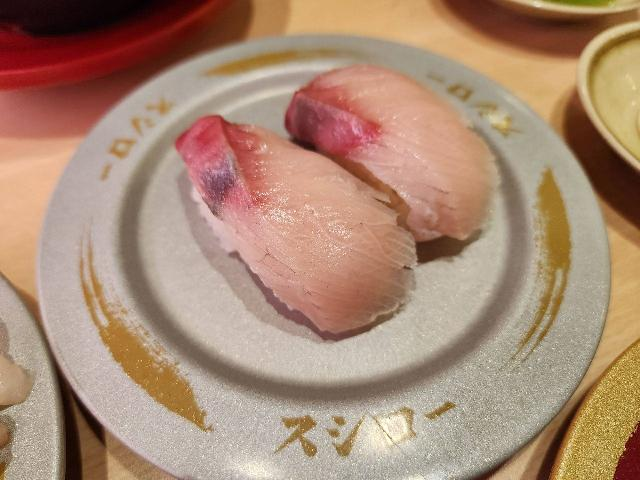jangold: (570, 347, 640, 480)
janred: (0, 3, 213, 73)
janwhite: (41, 77, 592, 433), (0, 281, 87, 478)
